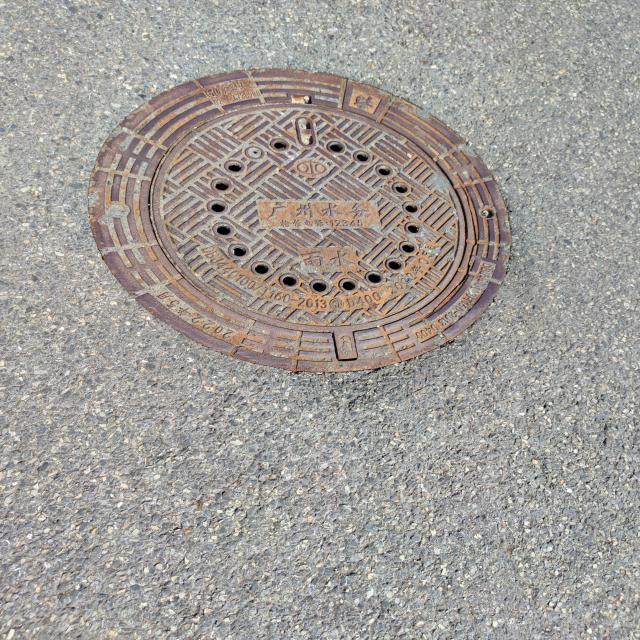Good: (83, 64, 525, 384)
